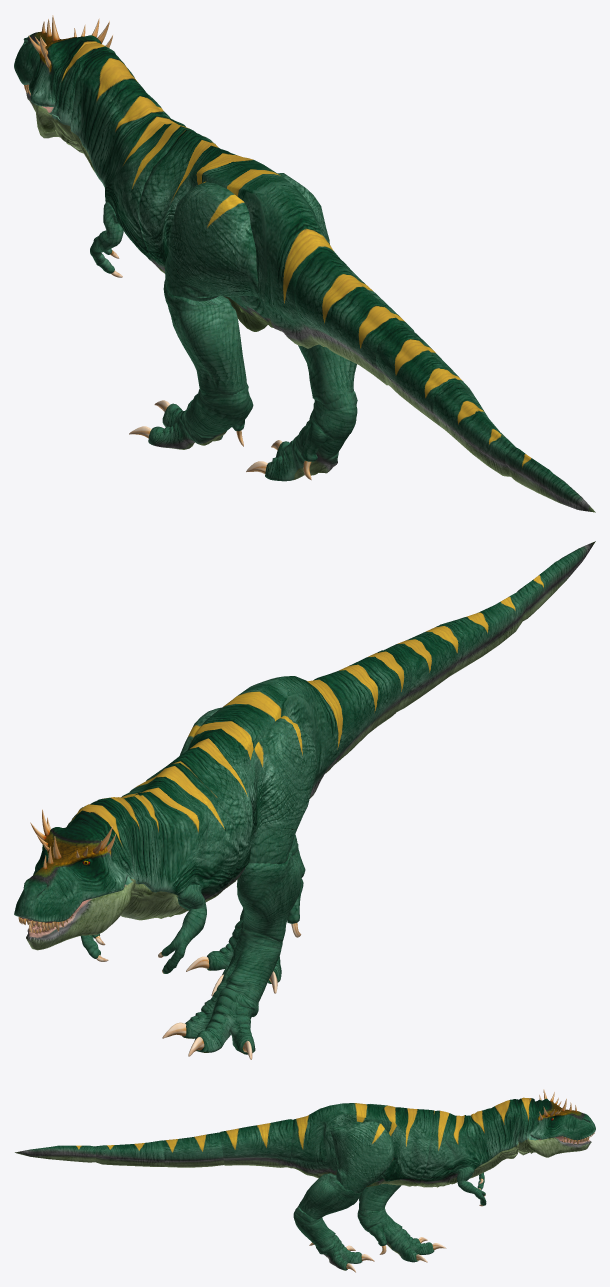
Rendered from redeye_king.glb.
3 renders of one model, top to bottom at view 1: azimuth 30°, elevation 25°; view 2: azimuth 150°, elevation 25°; view 3: azimuth 270°, elevation 25°, orthographic. The views are drawn at different scales.
Visible parts, largest first — view 1: body, chest, L_leg_01, tail_01, turret01-arms, L_knee_01, R_foot_01, L_foot_01, tail_02, tail_03, R_knee_01, tail_04 (+1 smaller); view 2: chest, body, turret01-arms, L_leg_01, L_foot_01, tail_01, L_knee_01, tail_02, tail_03, mouth_bot, R_foot_01, tail_04 (+1 smaller); view 3: body, chest, R_leg_01, tail_01, turret01-arms, L_foot_01, R_foot_01, tail_02, R_knee_01, tail_03, tail_04, mouth_bot (+2 smaller).
Boxes of the visible parts, left/top/right/bottom form: body: left=138, top=130, right=339, bottom=348; chest: left=70, top=52, right=218, bottom=273; L_leg_01: left=165, top=181, right=259, bottom=301; tail_01: left=294, top=251, right=414, bottom=385; turret01-arms: left=14, top=15, right=118, bottom=153; L_knee_01: left=163, top=279, right=246, bottom=395; R_foot_01: left=246, top=391, right=357, bottom=481; L_foot_01: left=129, top=383, right=253, bottom=449; tail_02: left=376, top=327, right=467, bottom=427; tail_03: left=433, top=382, right=515, bottom=476; R_knee_01: left=298, top=344, right=356, bottom=405; tail_04: left=505, top=446, right=595, bottom=512; chest: left=90, top=763, right=238, bottom=920; body: left=146, top=676, right=349, bottom=887; turret01-arms: left=14, top=804, right=135, bottom=931; L_leg_01: left=249, top=715, right=316, bottom=864; L_foot_01: left=162, top=927, right=282, bottom=1059; tail_01: left=313, top=649, right=411, bottom=773; L_knee_01: left=237, top=851, right=301, bottom=941; tail_02: left=384, top=624, right=464, bottom=712; tail_03: left=440, top=590, right=527, bottom=675; mouth_bot: left=26, top=876, right=134, bottom=950; R_foot_01: left=186, top=843, right=305, bottom=996; tail_04: left=517, top=541, right=595, bottom=620; body: left=290, top=1103, right=434, bottom=1187; chest: left=417, top=1099, right=520, bottom=1187; R_leg_01: left=330, top=1121, right=394, bottom=1193; tail_01: left=219, top=1119, right=292, bottom=1168; turret01-arms: left=517, top=1089, right=595, bottom=1155; L_foot_01: left=357, top=1207, right=446, bottom=1262; R_foot_01: left=293, top=1206, right=374, bottom=1272; tail_02: left=163, top=1132, right=224, bottom=1167; R_knee_01: left=298, top=1173, right=361, bottom=1219; tail_03: left=94, top=1140, right=164, bottom=1166; tail_04: left=15, top=1145, right=95, bottom=1162; mouth_bot: left=526, top=1133, right=591, bottom=1157.
Bounding box in the file's own units: 30.18 × 66.91 × 219.
1 material, 1 textured.
